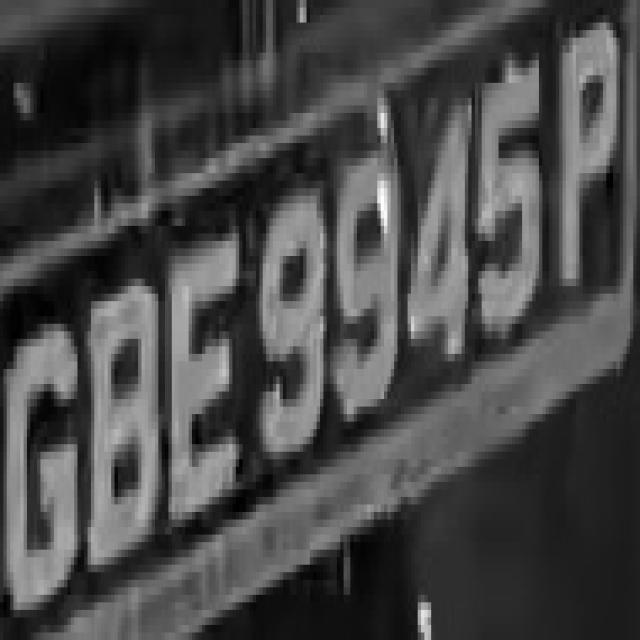4: (401, 83, 478, 384)
5: (465, 68, 549, 339)
9: (256, 166, 333, 474), (337, 143, 411, 444)
B: (81, 256, 155, 587)
E: (168, 203, 246, 565)
G: (0, 294, 91, 618)
P: (556, 0, 630, 331)
